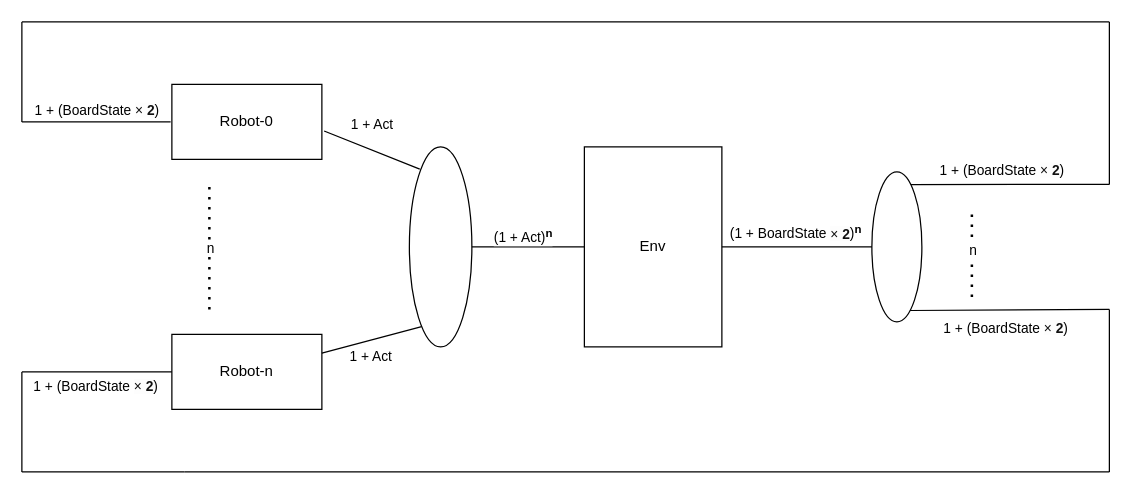
The diagram is 1133 pixels wide and 495 high, and some of its shapes have lost their labels. Each missing label, with the box of its shape:
f2t: (871, 171, 922, 322)
t2f: (408, 146, 472, 347)
